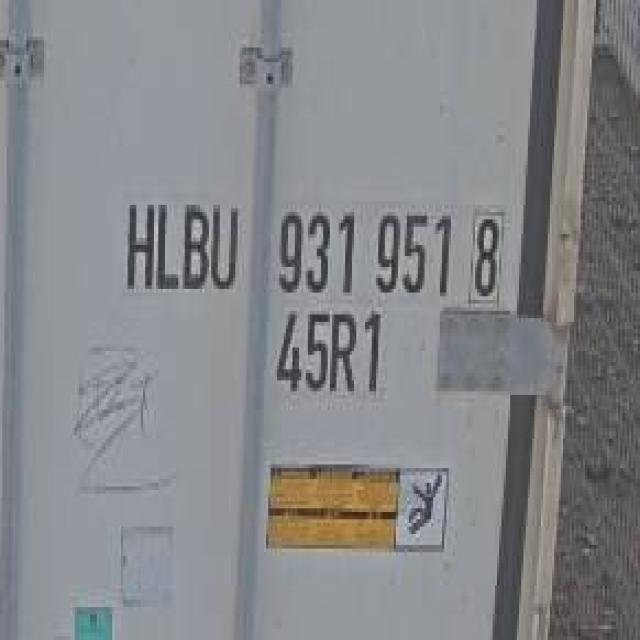dv: (464, 204, 508, 301)
owner: (114, 193, 240, 299)
serial: (271, 192, 454, 301)
size: (269, 303, 386, 402)
